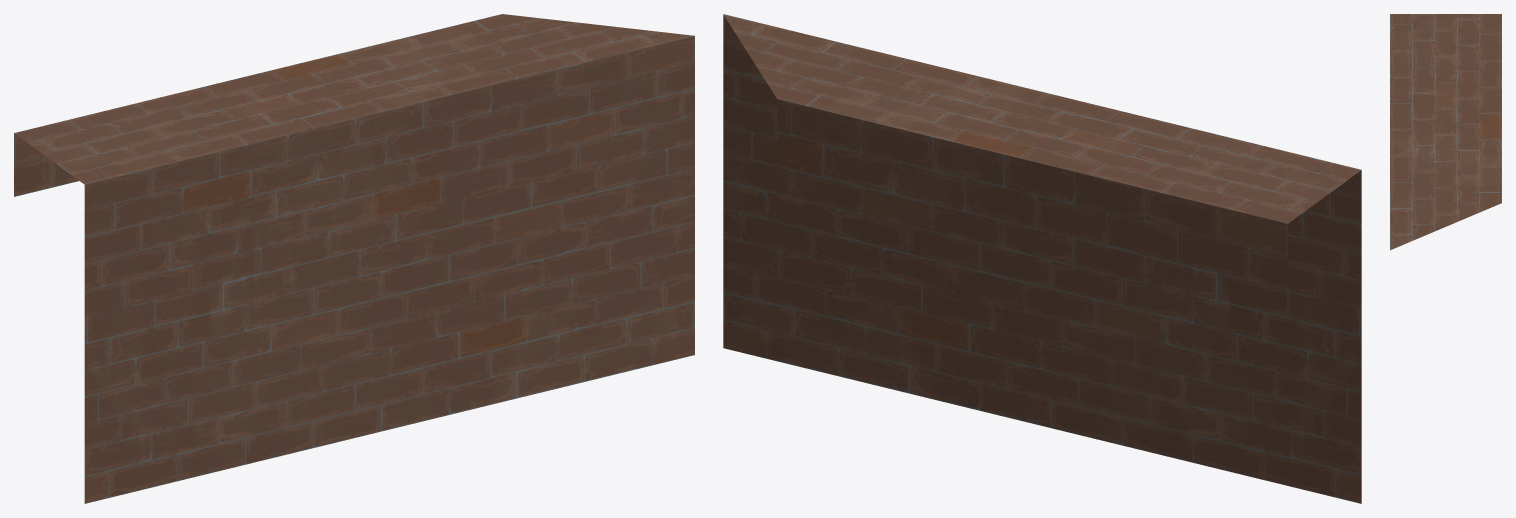
The model's file is Cornice_Brick_R.gltf.
3 views of the same model, side by side, from view 1: azimuth 30°, elevation 25°; view 2: azimuth 150°, elevation 25°; view 3: azimuth 270°, elevation 25° (orthographic). The views are drawn at different scales.
Parts seen in each view (by area): view 1: Cornice_Brick_R; view 2: Cornice_Brick_R; view 3: Cornice_Brick_R.
Part boxes in pixels (x1,y1,x2,y2): Cornice_Brick_R: (14,14,694,503); Cornice_Brick_R: (723,14,1361,503); Cornice_Brick_R: (1390,14,1501,250).
Size of the model in its own units: 2 by 1 by 0.4.
1 material, 1 textured.
